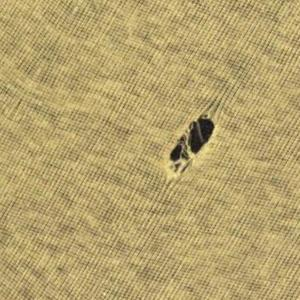hole: (165, 108, 215, 182)
